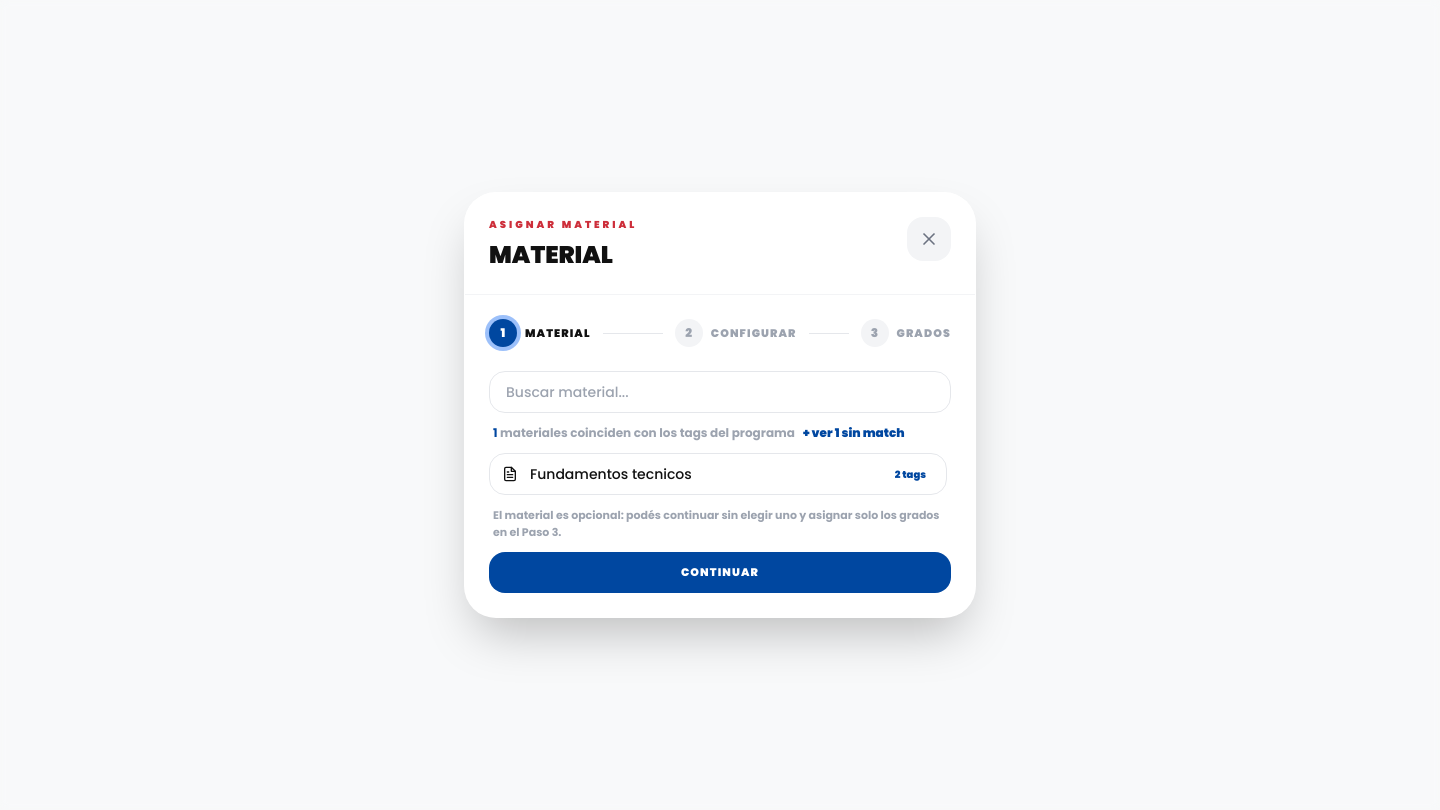
Test: AsignarMaterialWizard › Paso 1: seleccion de material › permite buscar material por texto
Type "refuerzo" into the search field labelled "Buscar material..." at (720,392), box [489, 371, 951, 413]
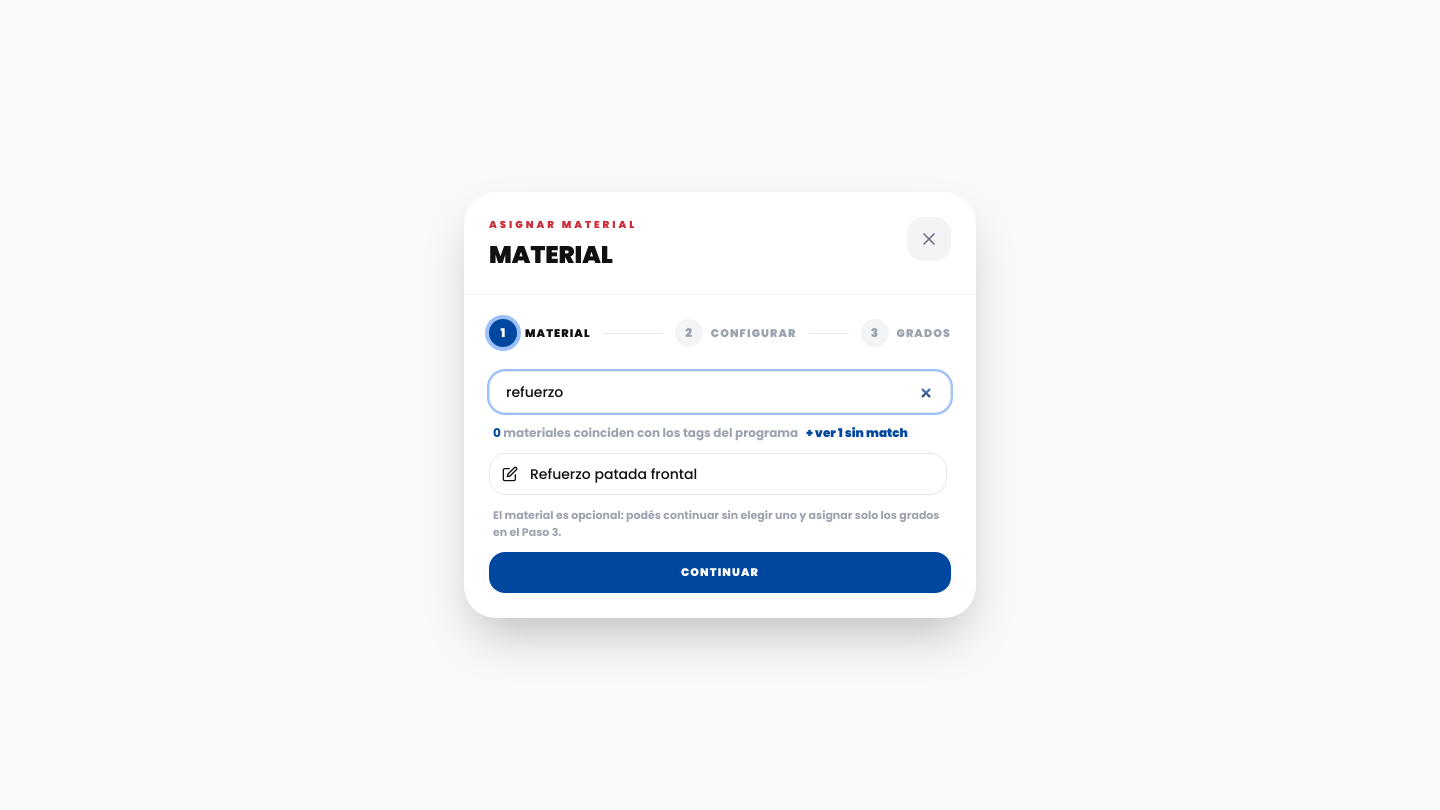
Check: the button "Fundamentos tecnicos" is gone
Check: the button "Refuerzo patada frontal" is shown, box [489, 453, 947, 495]
